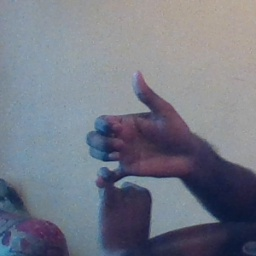S: (82, 67, 190, 239)
